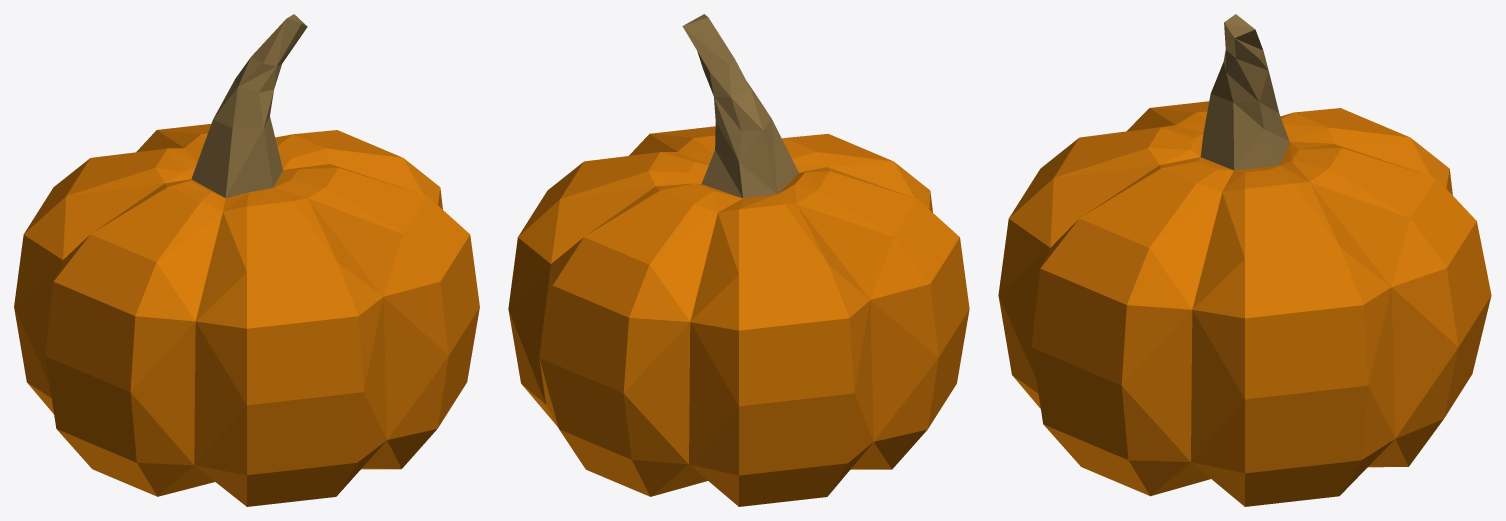
Rendered from jack'o lantern.glb.
3 renders of one model, left to right at view 1: azimuth 30°, elevation 25°; view 2: azimuth 150°, elevation 25°; view 3: azimuth 270°, elevation 25°, orthographic. The views are drawn at different scales.
Parts seen in each view (by area): view 1: jack'o lantern; view 2: jack'o lantern; view 3: jack'o lantern.
Part boxes in pixels (x1,y1,x2,y2): jack'o lantern: [14, 14, 479, 506]; jack'o lantern: [508, 14, 969, 506]; jack'o lantern: [998, 14, 1491, 506].
Size of the model in its own units: 0.2178 by 0.2188 by 0.2178.
